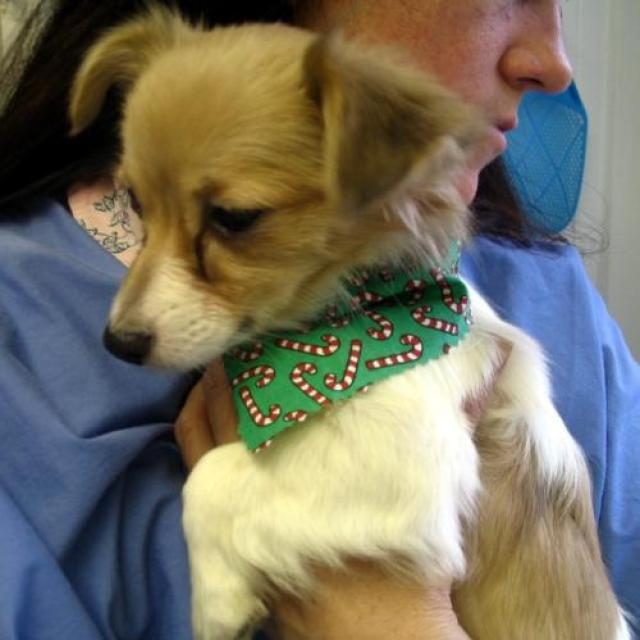Dogs: (66, 5, 638, 639)
